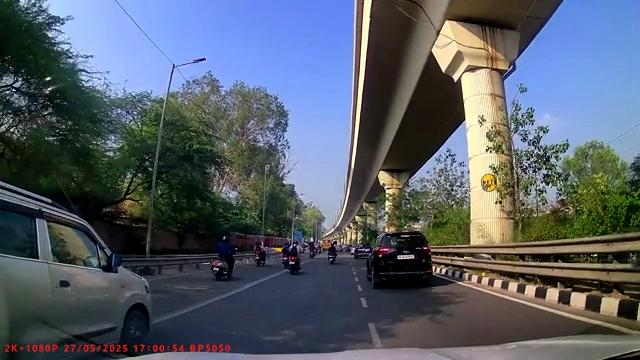motorcycle_with_helmet: (211, 234, 236, 281)
